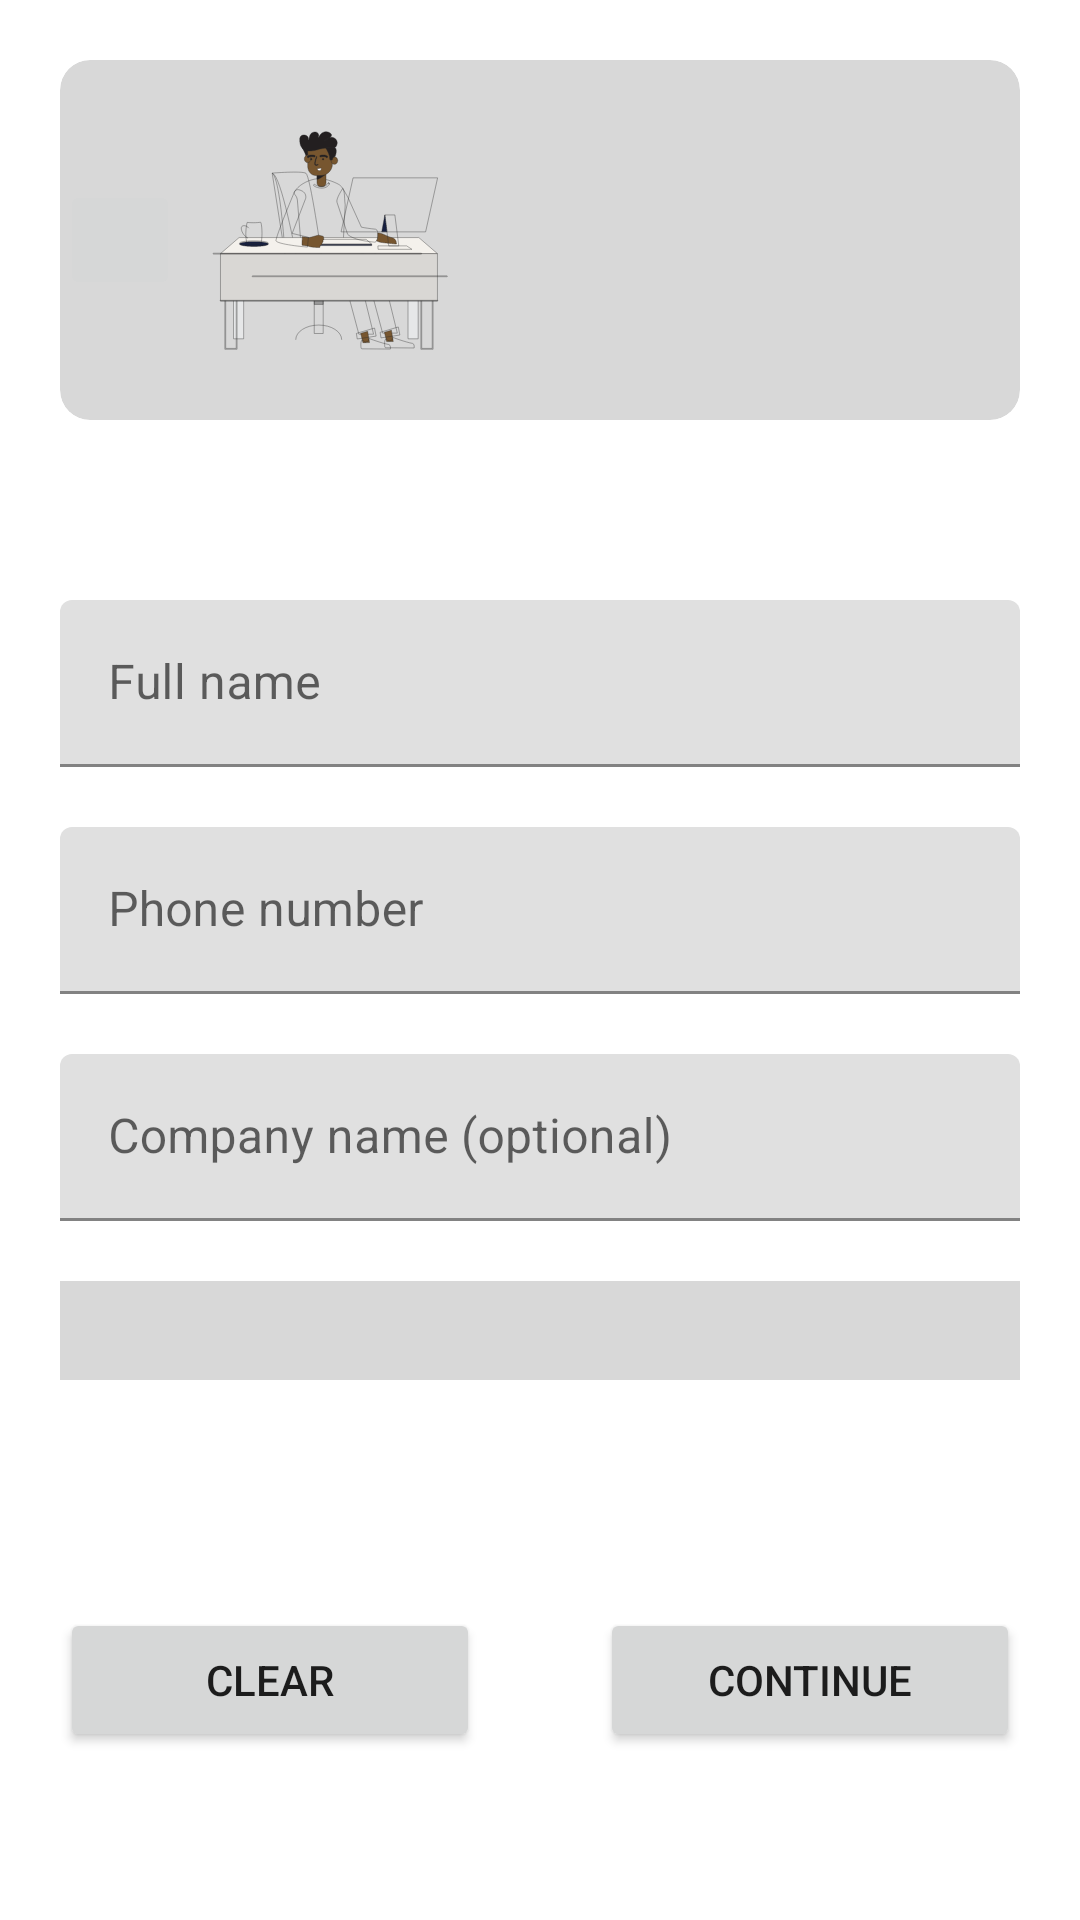

Screen size 1080 x 1920. Icon name, then its center in pixels as point (x, y):
people on computer: point (330, 240)
